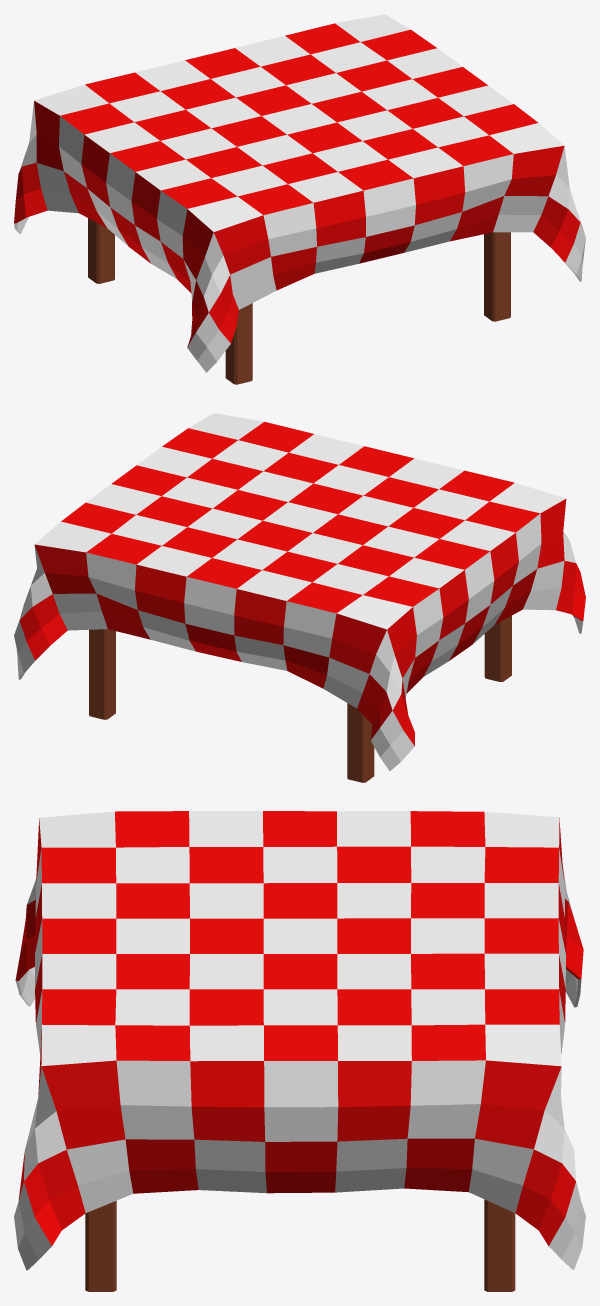
File: Mesa01.fbx
3 views of the same model, one above another, from view 1: azimuth 30°, elevation 25°; view 2: azimuth 150°, elevation 25°; view 3: azimuth 270°, elevation 25° (orthographic). The views are drawn at different scales.
Visible parts, largest first — view 1: Mesa; view 2: Mesa; view 3: Mesa.
Boxes of the visible parts, x1,y1,x2,y2 form: Mesa: [14, 14, 585, 384]; Mesa: [14, 413, 585, 782]; Mesa: [14, 811, 585, 1291].
Bounding box in the file's own units: 200 × 85.64 × 172.
